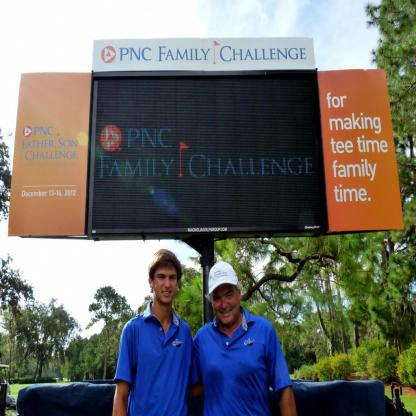face: (214, 286, 242, 325), (156, 263, 178, 304)
